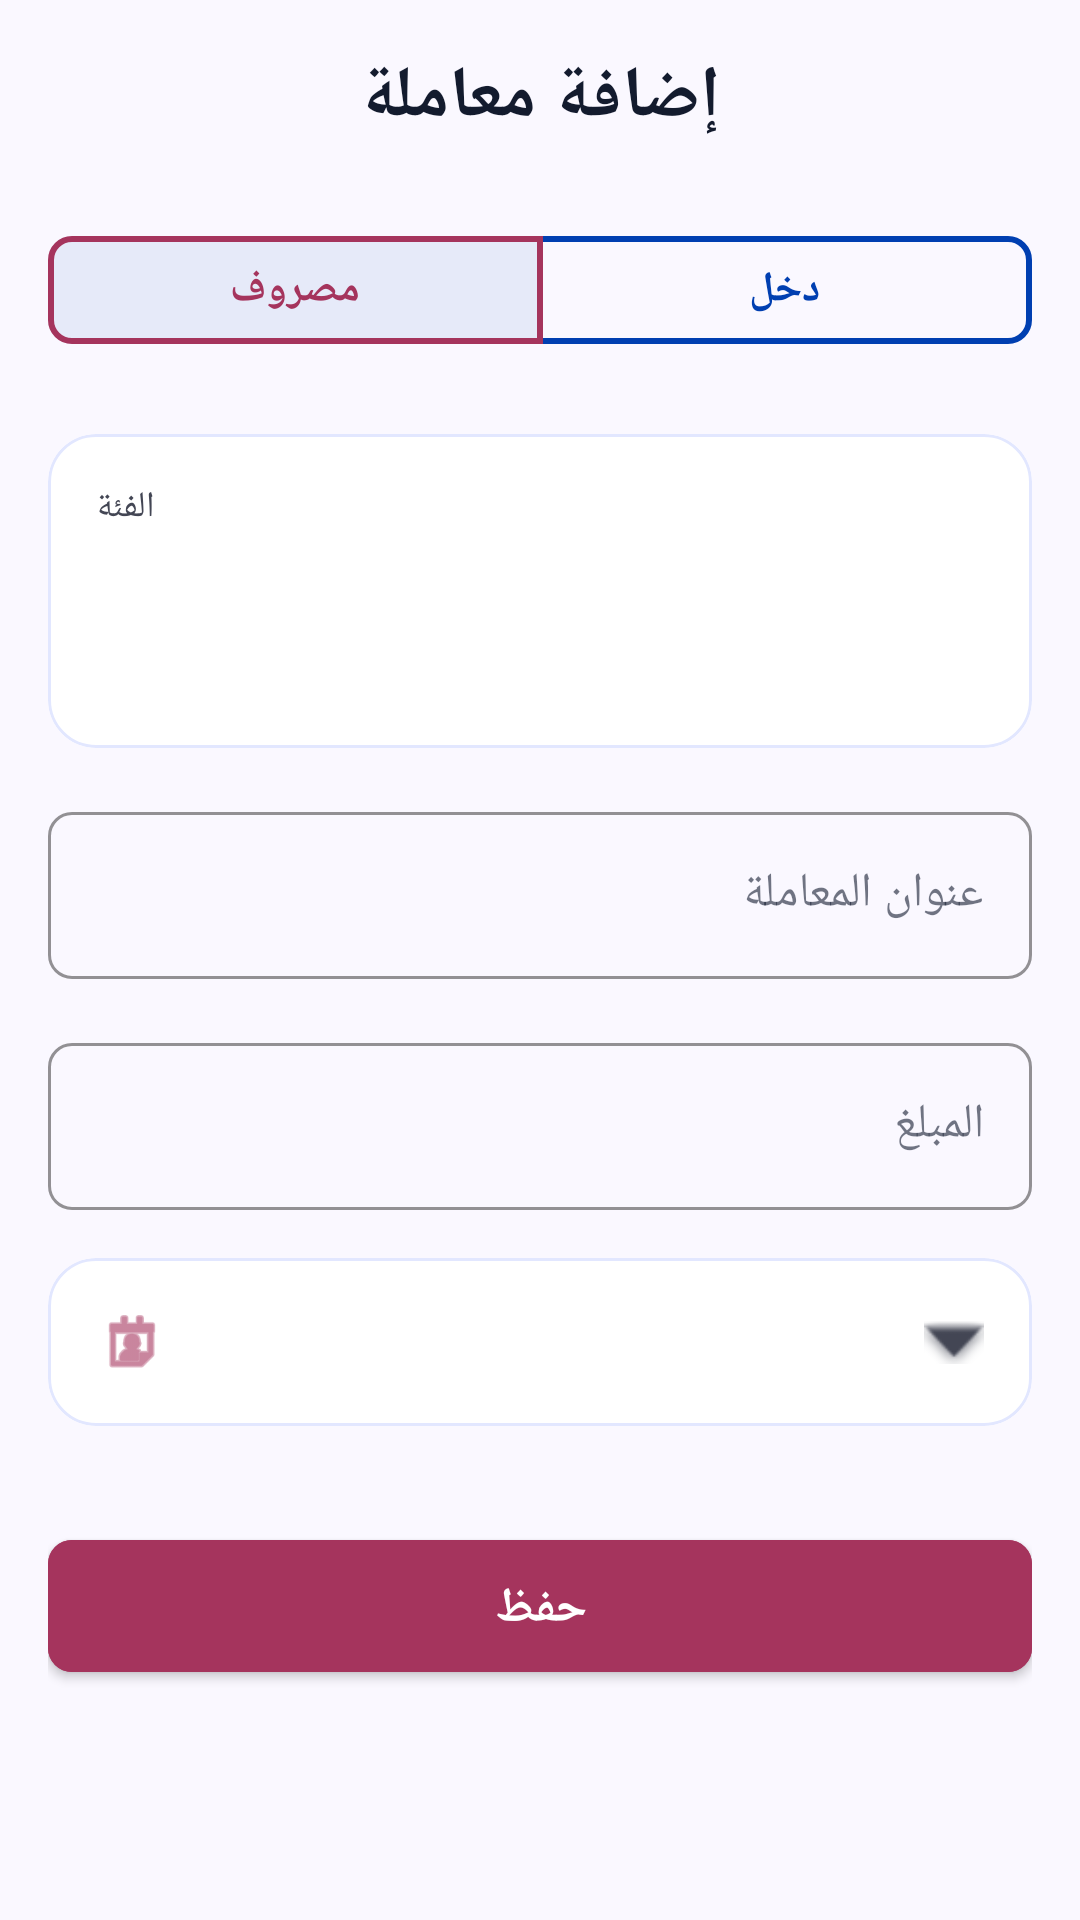

Named icons in this screenshot (1080x1920) and their bounding boxes, (x1, y1, x2, y2):
arrow down float: (924, 1323, 984, 1361)
calendar: (109, 1315, 155, 1368)
